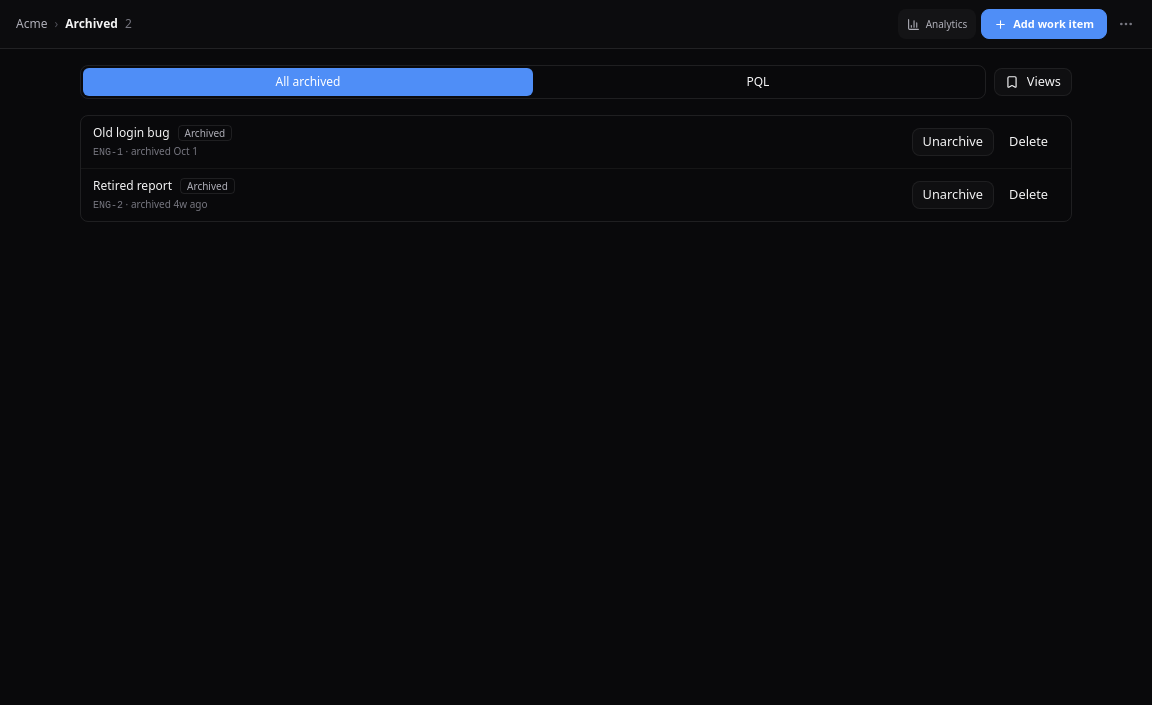
Test: archived saved views (C111T3) › leaving PQL mode after a view apply restores the full archived set
Expected: the link "Old login bug" is shown, [93,124,170,142]
Expected: the link "Retired report" is shown, [93,177,172,195]
Click the button with aria-label "Saved views": (1033, 82) [994,68,1072,96]
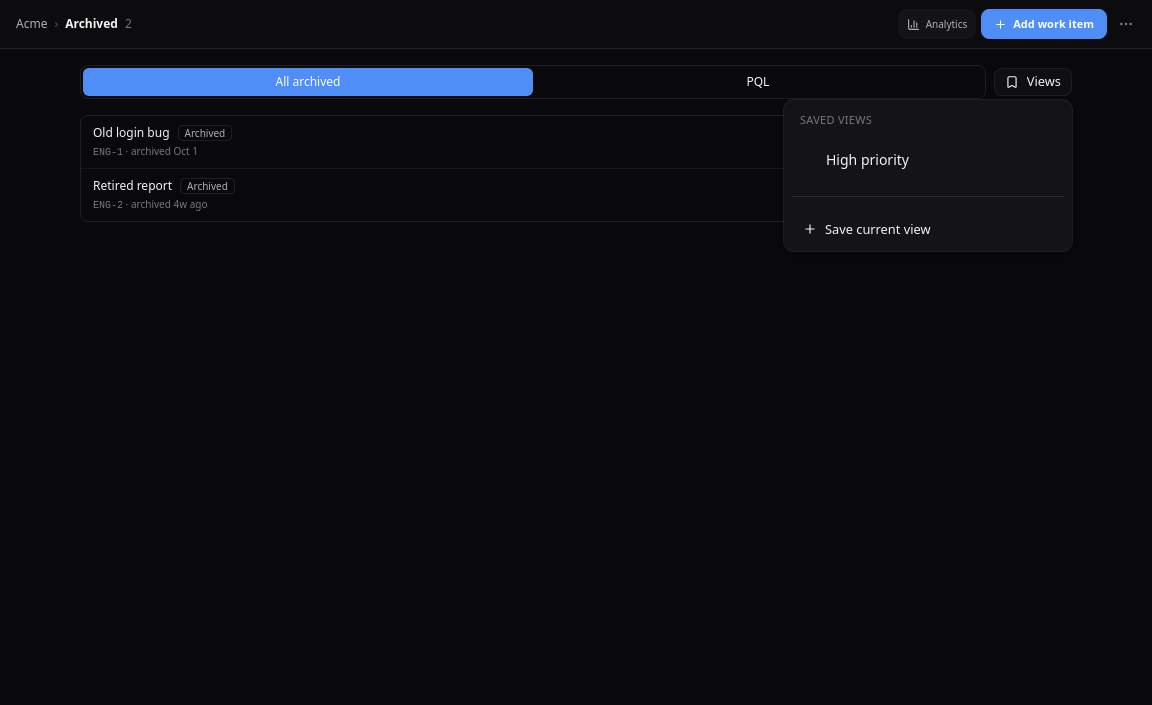
Now the button "Save current view" is shown, box [792,215,1064,243]
Click the button titled "Apply view “High priority”": (868, 160) [796,144,940,176]
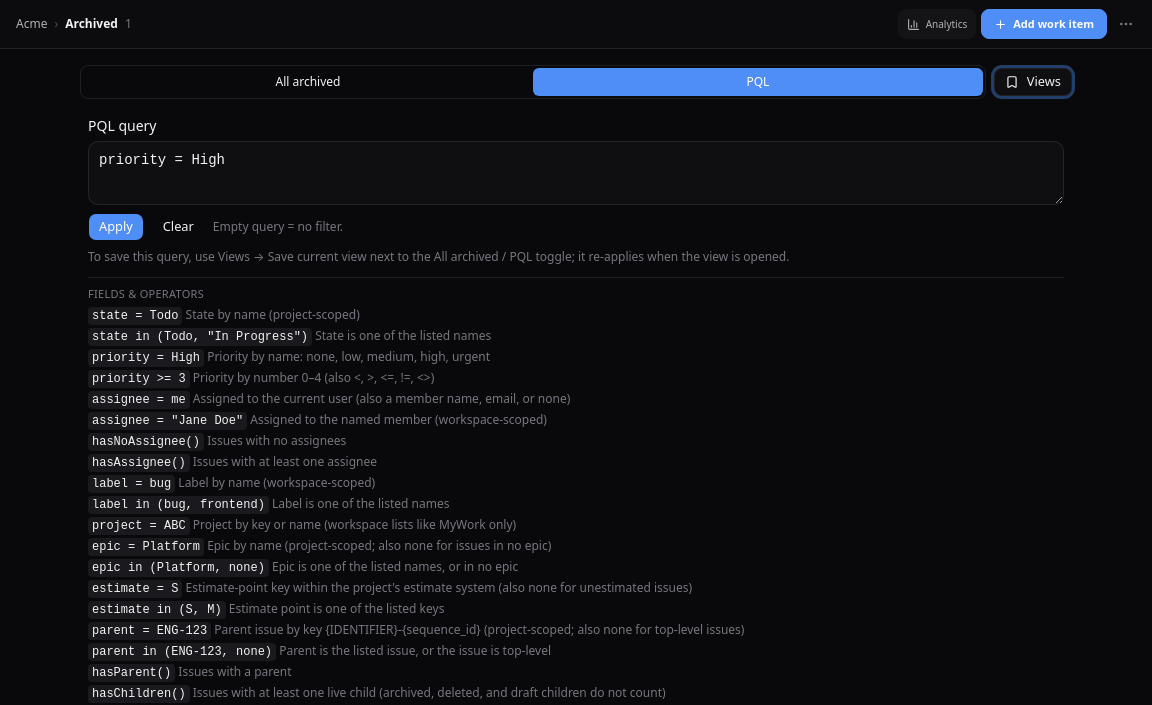
Now the link "Retired report" is gone
Click the button "All archived": (308, 82) [83,68,533,96]
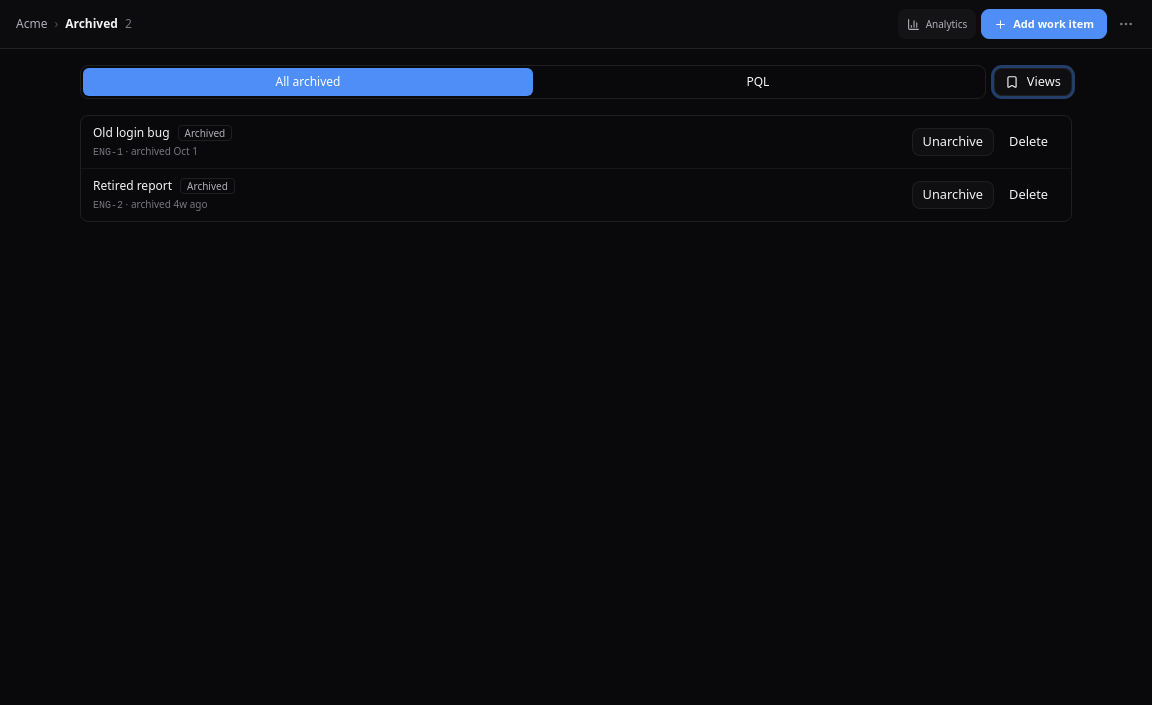
Expected: the link "Old login bug" is shown, [93,124,170,142]
Now the link "Retired report" is shown, box [93,177,172,195]
Now the label labelled "PQL query" is gone
